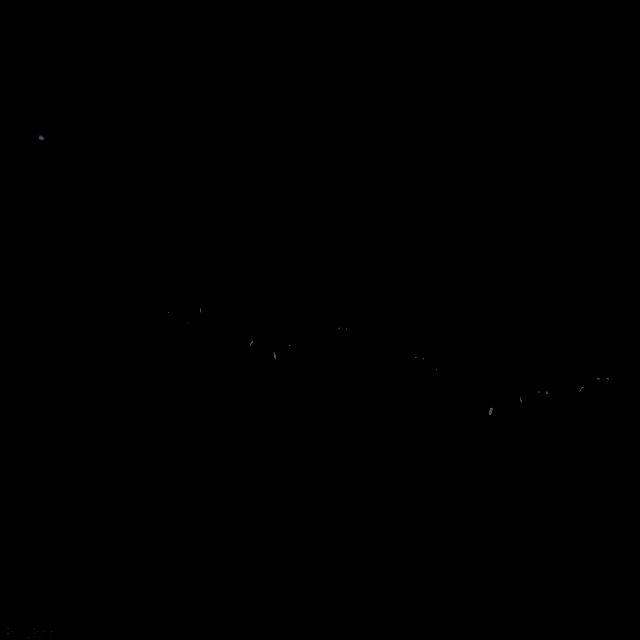Dog: (112, 259, 640, 546)
